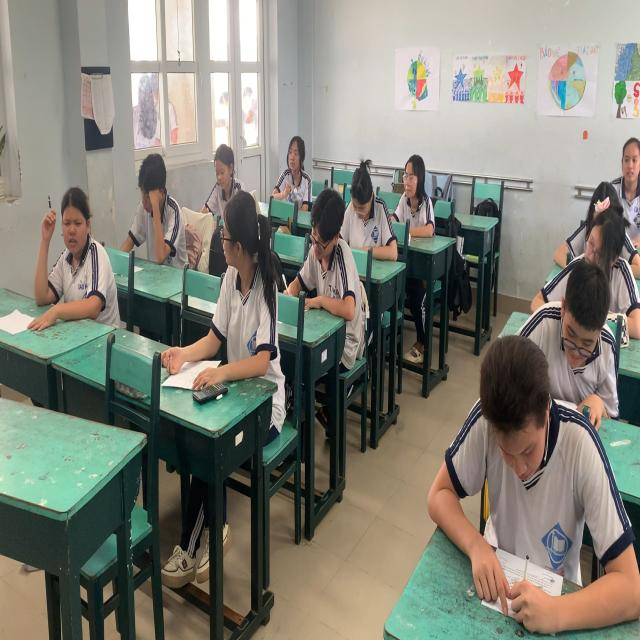cheating: (212, 188, 284, 368)
not_cheating: (428, 336, 594, 619), (529, 264, 610, 412), (37, 181, 117, 316), (302, 184, 356, 319), (344, 160, 393, 261), (391, 146, 440, 243), (135, 150, 181, 253), (610, 136, 640, 222), (272, 139, 314, 198), (202, 149, 241, 195), (582, 211, 610, 271)
